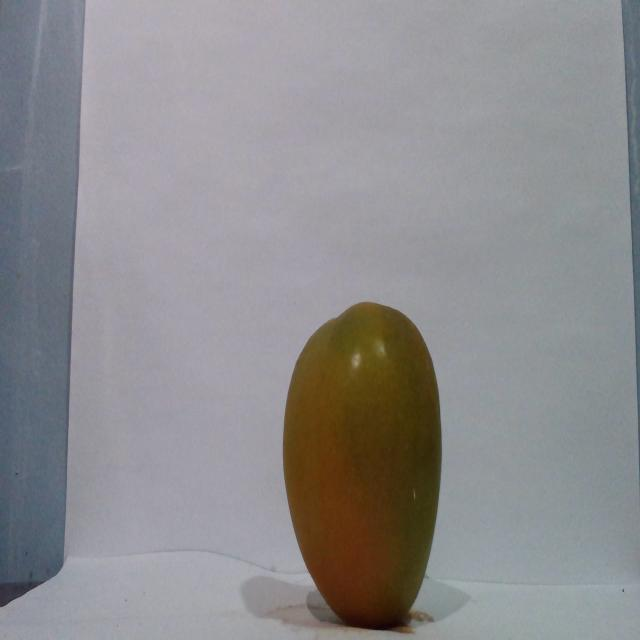Red: (280, 299, 443, 629)
